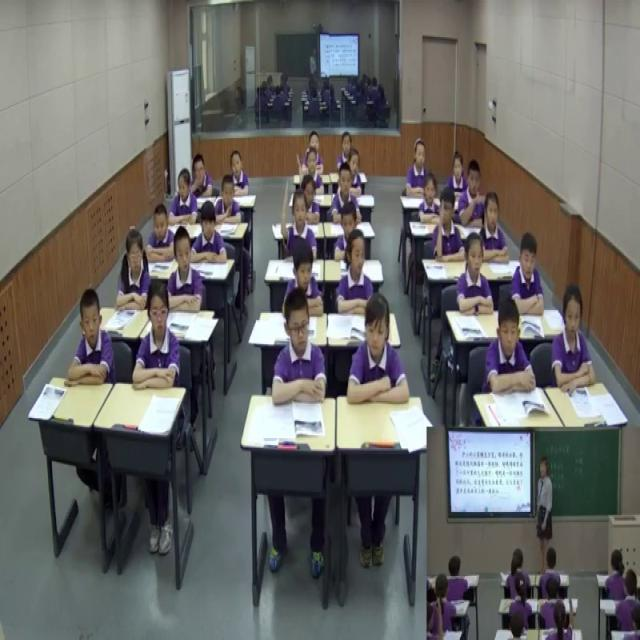focused: (347, 294, 412, 410), (273, 285, 329, 409), (131, 281, 180, 400), (484, 296, 538, 400), (549, 284, 599, 391), (66, 284, 111, 394), (338, 228, 380, 318), (167, 224, 205, 316), (116, 228, 153, 316), (456, 231, 494, 316), (283, 246, 326, 320), (512, 230, 546, 318), (190, 198, 228, 268), (332, 196, 368, 268), (460, 160, 493, 232), (480, 190, 510, 264), (404, 135, 435, 200), (144, 203, 177, 263), (333, 167, 364, 227), (415, 170, 444, 232), (170, 168, 198, 224), (214, 173, 243, 222), (300, 173, 324, 226), (190, 153, 215, 199), (229, 151, 250, 197), (307, 132, 327, 180), (346, 148, 365, 197), (340, 128, 360, 174), (449, 152, 469, 197)
raising_hand: (280, 180, 320, 268), (431, 190, 464, 258), (296, 145, 326, 195)
